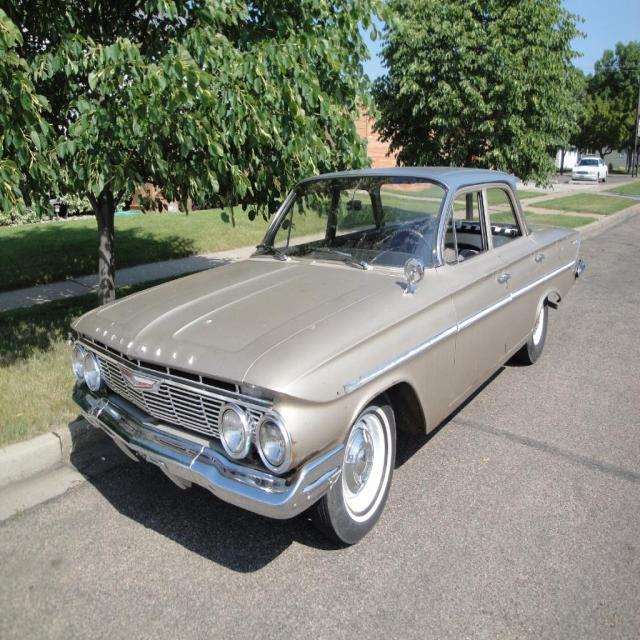car: (68, 166, 586, 543), (571, 153, 608, 183)
